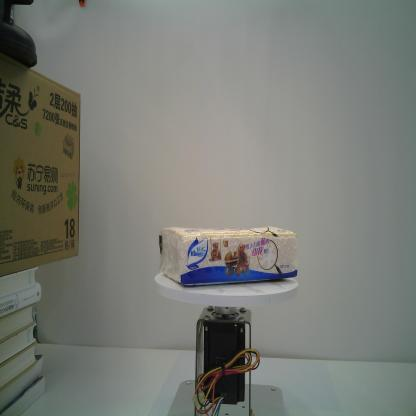Tissue: (152, 222, 300, 290)
